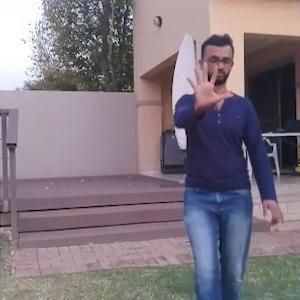follow_hand: (183, 57, 232, 111)
